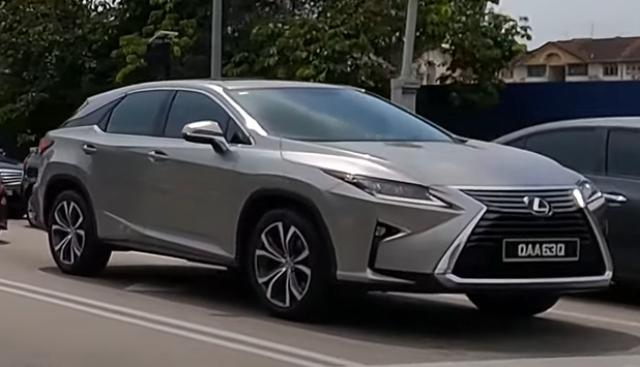License_Plate: (505, 240, 580, 263)
car: (24, 78, 618, 322)
